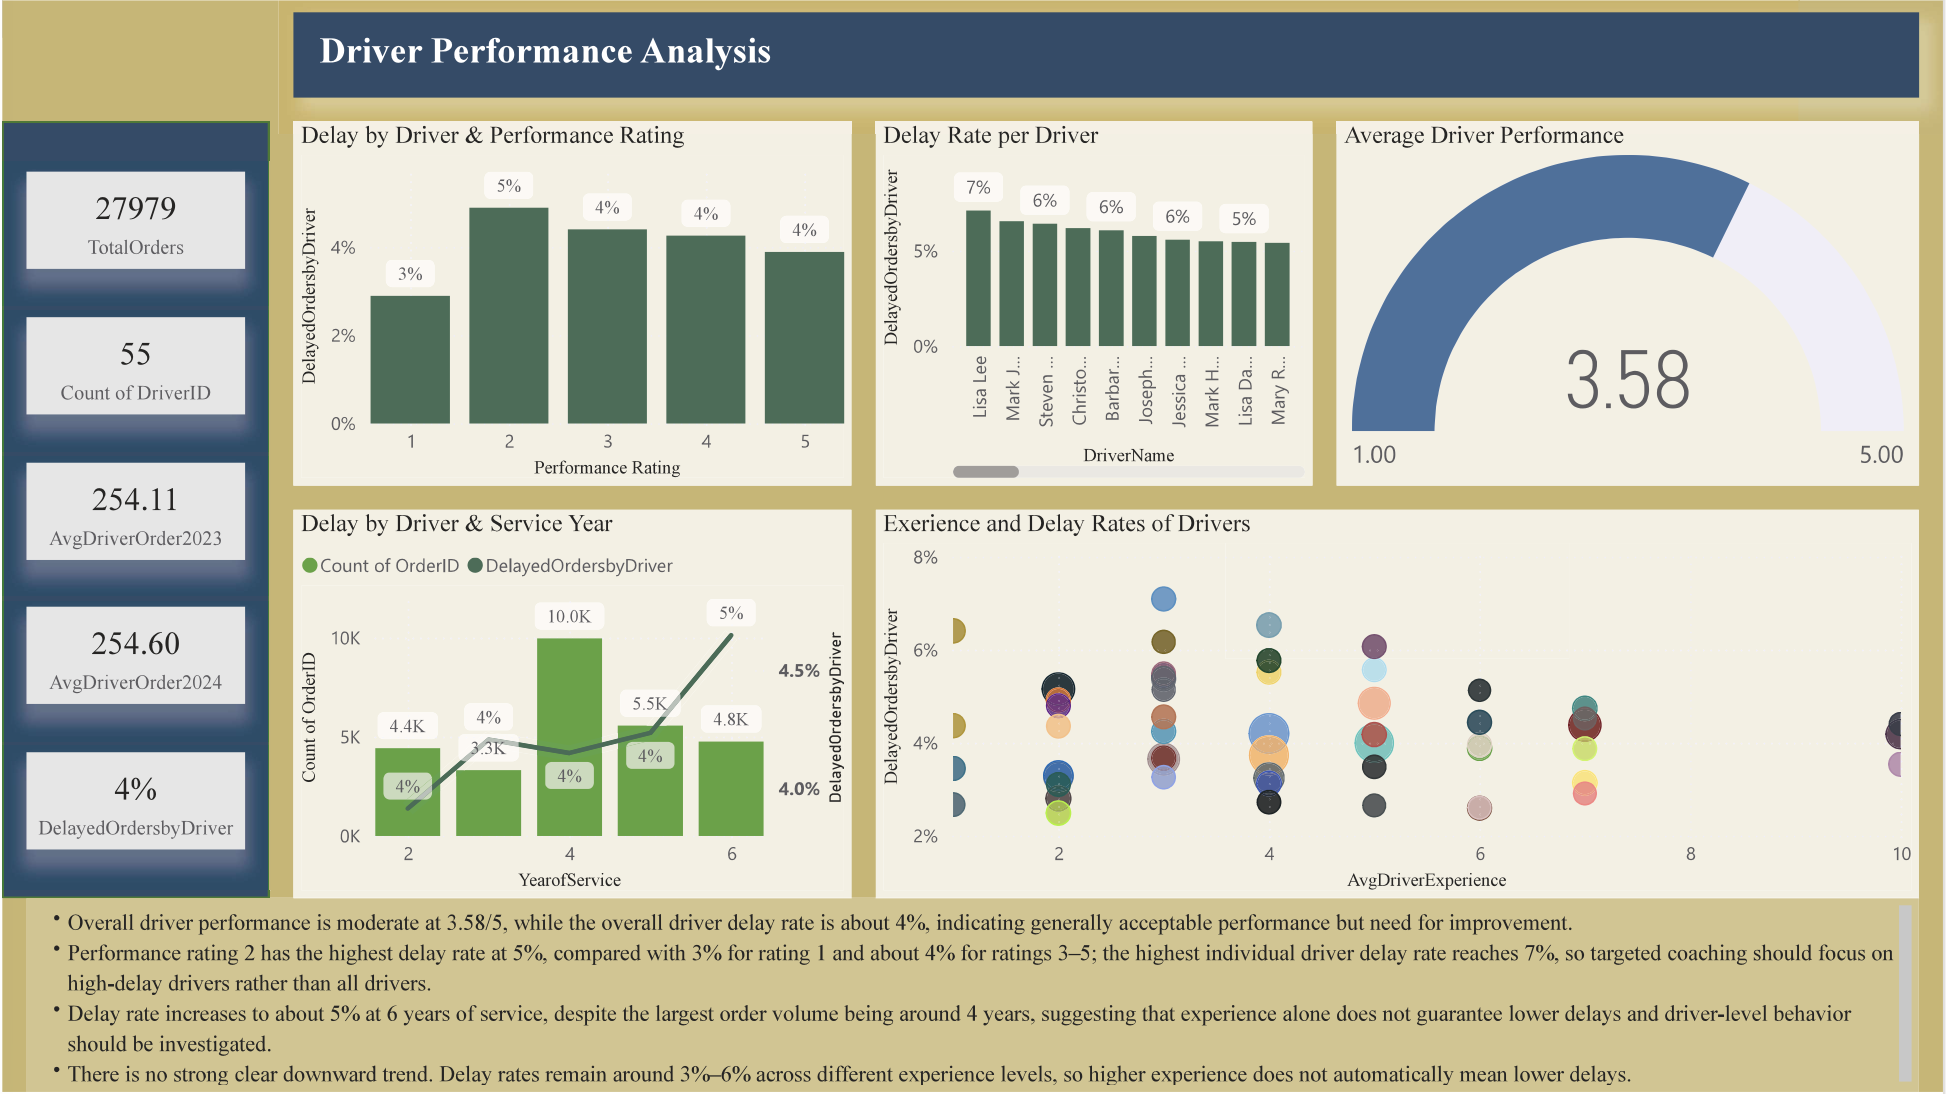

Layout of this report page (visuals, bound fields, positions):
{"tool":"powerbi","page":{"name":"Driver Performance Analysis","canvas":[1280,720],"ordinal":4},"visuals":[{"type":"shape","box":[0,80,176,512],"z":0},{"type":"card","fields":{"Values":["FACT-Orders.TotalOrders"]},"box":[16,112.5,144,64],"z":1000},{"type":"card","fields":{"Values":["CountNonNull(DIM-Drivers.DriverID)"]},"box":[16,208.5,144,64],"z":2000},{"type":"card","fields":{"Values":["FACT-Orders.AvgDriverOrder2023"]},"box":[16,304.5,144,64],"z":3000},{"type":"card","fields":{"Values":["FACT-Orders.AvgDriverOrder2024"]},"box":[16,400,144,64],"z":4000},{"type":"card","fields":{"Values":["FACT-Orders.DelayedOrders"]},"box":[16,496,144,64],"z":5000},{"type":"textbox","box":[192,8,1072,56],"z":6000},{"type":"shape","box":[16,592,1248,128],"z":7000},{"type":"lineStackedColumnComboChart","title":"Delay Rate per Driver","fields":{"Category":["DIM-Drivers.DriverName"],"Y":["FACT-Orders.DelayedOrdersbyDriver"]},"box":[576,80,288,240],"z":8000},{"type":"lineStackedColumnComboChart","title":"Delay by Driver & Performance Rating","fields":{"Category":["DIM-Drivers.Performance Rating"],"Y":["FACT-Orders.DelayedOrdersbyDriver"]},"box":[192,80,368,240],"z":9000},{"type":"lineStackedColumnComboChart","title":"Delay by Driver & Service Year","fields":{"Category":["DIM-Drivers.YearofService"],"Y2":["FACT-Orders.DelayedOrdersbyDriver"],"Y":["CountNonNull(FACT-Orders.OrderID)"]},"box":[192,336,368,256],"z":10000},{"type":"scatterChart","title":"Exerience and Delay Rates of Drivers","fields":{"Y":["FACT-Orders.DelayedOrdersbyDriver"],"Series":["DIM-Drivers.DriverID"],"Size":["FACT-Orders.TotalOrders"],"Category":["DIM-Drivers.Experience Years"],"X":["FACT-Orders.AvgDriverExperience"]},"box":[576,336,688,256],"z":11000},{"type":"gauge","title":"Average Driver Performance","fields":{"Y":["FACT-Orders.AvgDriverPerformance"]},"box":[880,80,384,240],"z":12000},{"type":"textbox","box":[16,592,1248,128],"z":13000}]}

Visuals, with their boxes in screenshot pixels (x1, y1, x2, y2), scaled from the page's 1280x720 canvas onto the 1946x1094 screenshot:
shape: 0:122:268:900
card - FACT-Orders.TotalOrders: 24:171:243:268
card - CountNonNull(DIM-Drivers.DriverID): 24:317:243:414
card - FACT-Orders.AvgDriverOrder2023: 24:463:243:560
card - FACT-Orders.AvgDriverOrder2024: 24:608:243:705
card - FACT-Orders.DelayedOrders: 24:754:243:851
textbox: 292:12:1922:97
shape: 24:900:1922:1093
"Delay Rate per Driver" lineStackedColumnComboChart: 876:122:1314:486
"Delay by Driver & Performance Rating" lineStackedColumnComboChart: 292:122:851:486
"Delay by Driver & Service Year" lineStackedColumnComboChart: 292:511:851:900
"Exerience and Delay Rates of Drivers" scatterChart: 876:511:1922:900
"Average Driver Performance" gauge: 1338:122:1922:486
textbox: 24:900:1922:1093
